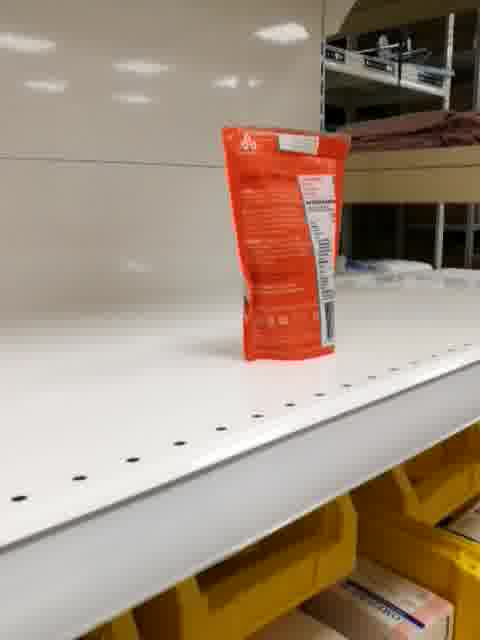whitechia: (219, 123, 355, 365)
